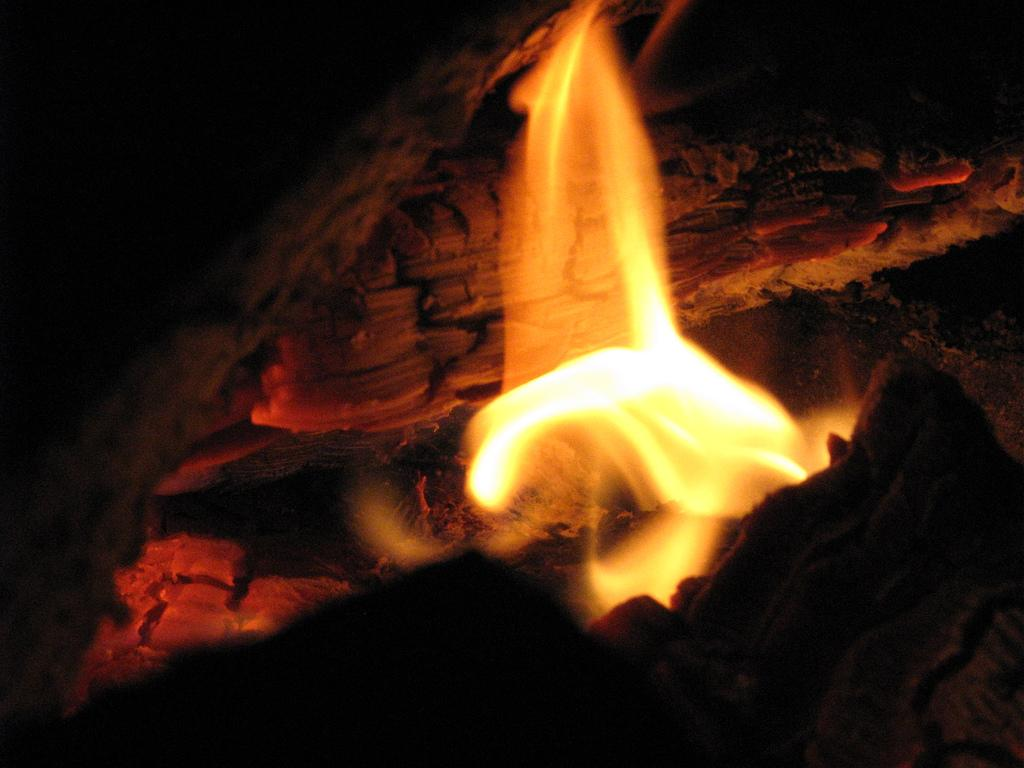fire: (522, 114, 648, 342), (612, 368, 724, 490)
